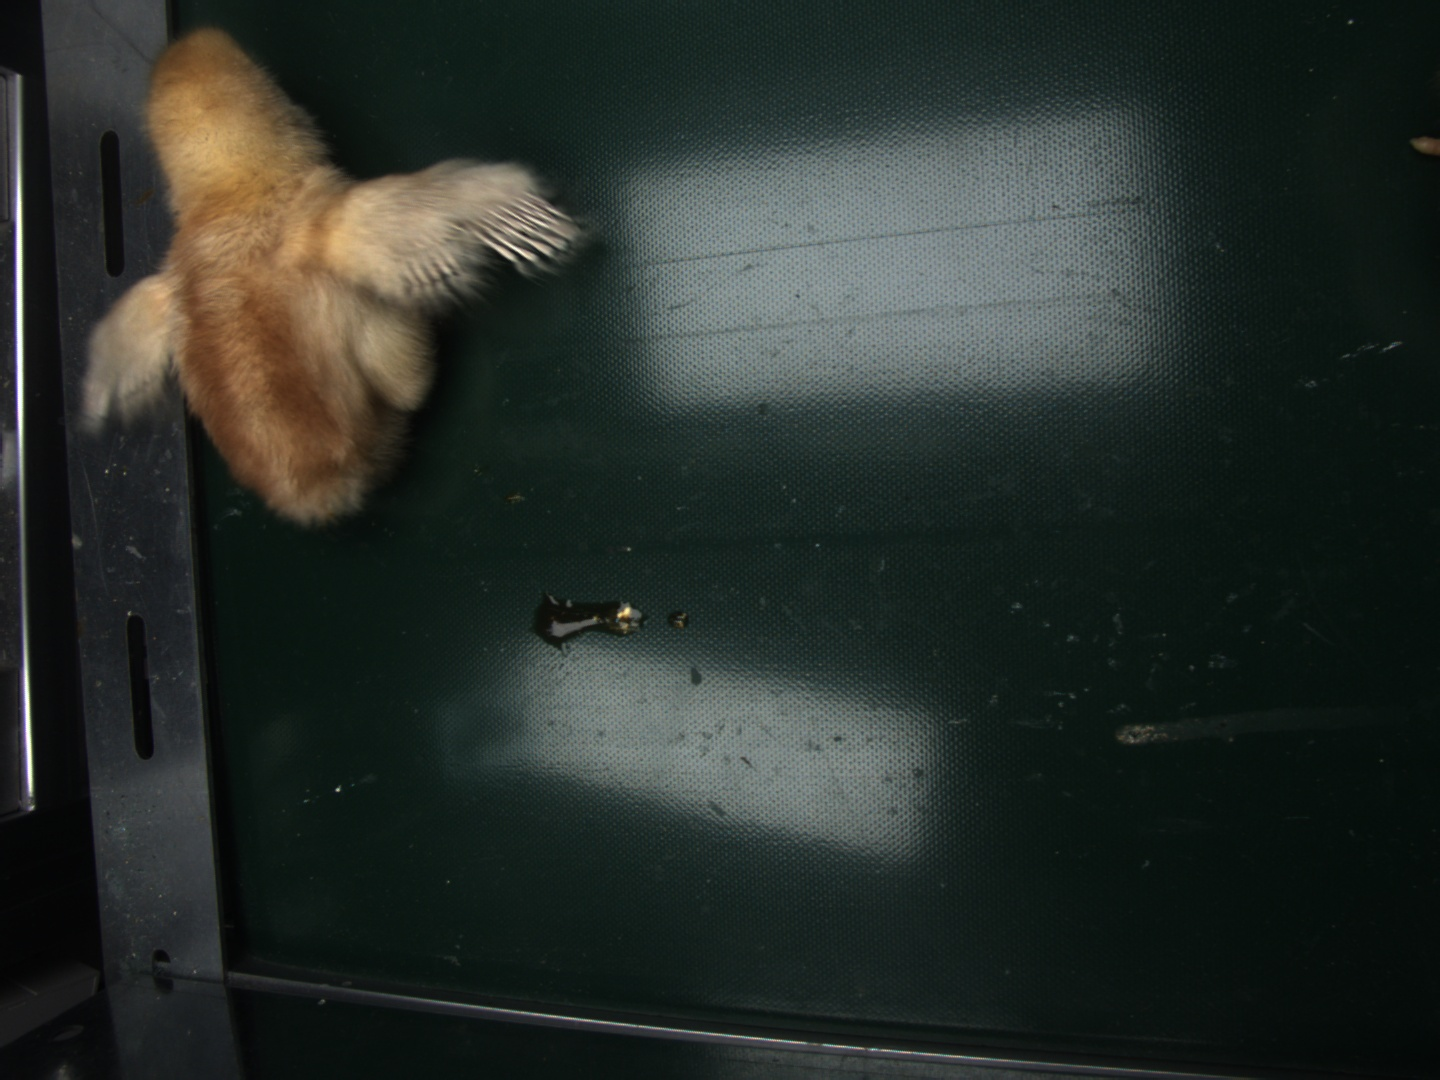female: (483, 192, 577, 268)
